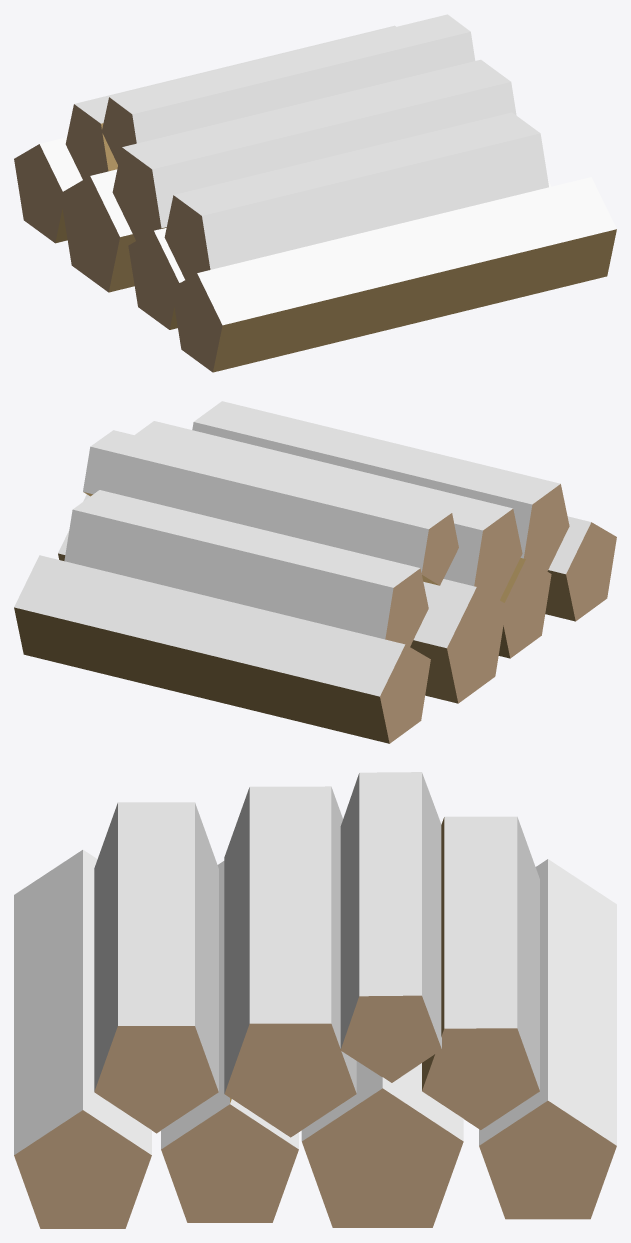
File: Oak_Firewood_Pile_Snow_01_LOD.fbx
The picture shows the model from 3 angles, top to bottom: view 1: azimuth 30°, elevation 25°; view 2: azimuth 150°, elevation 25°; view 3: azimuth 270°, elevation 25°; orthographic projection. The views are drawn at different scales.
Parts seen in each view (by area): view 1: Oak_Firewood_Pile_Snow_01_LOD0; view 2: Oak_Firewood_Pile_Snow_01_LOD0; view 3: Oak_Firewood_Pile_Snow_01_LOD0.
Boxes of the visible parts, x1=… form: Oak_Firewood_Pile_Snow_01_LOD0: x1=14, y1=14, x2=616, y2=372; Oak_Firewood_Pile_Snow_01_LOD0: x1=14, y1=401, x2=616, y2=743; Oak_Firewood_Pile_Snow_01_LOD0: x1=14, y1=772, x2=616, y2=1228.
Size of what is drawn, in the model's own units: 58.97 by 23.34 by 57.7.
